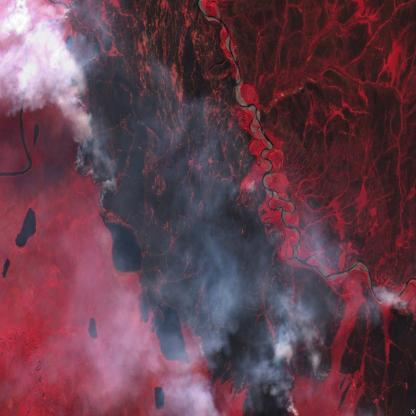fire: (48, 0, 118, 189), (272, 298, 337, 416), (389, 282, 416, 318)
